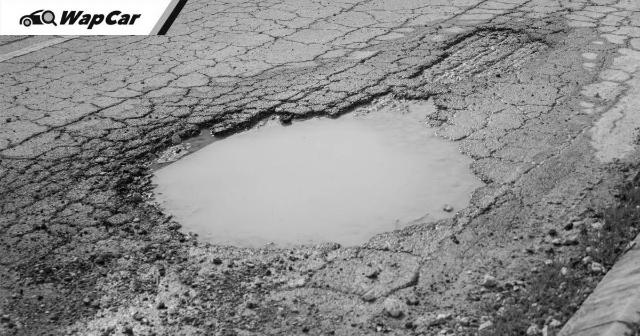Pothole: (138, 93, 492, 252), (404, 26, 552, 84)
